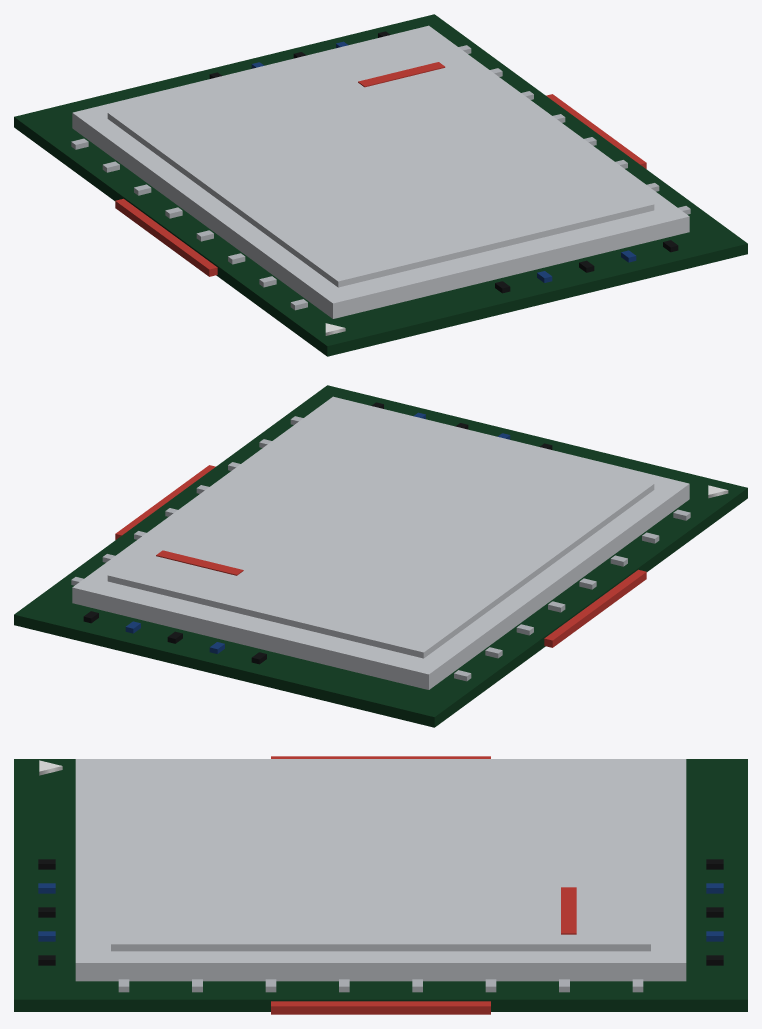
Rendered from hw_cpu_tr_pro_7985wx.glb.
3 views of the same model, one above another, from view 1: azimuth 30°, elevation 25°; view 2: azimuth 150°, elevation 25°; view 3: azimuth 270°, elevation 25° (orthographic). The views are drawn at different scales.
Visible parts, largest first — view 1: Body; view 2: Body; view 3: Body.
Part boxes in pixels (x1,y1,x2,y2): Body: (14, 14, 747, 356); Body: (14, 385, 747, 727); Body: (14, 756, 747, 1014).
Size of the model in its own units: 0.0608 by 0.00467 by 0.0755.
